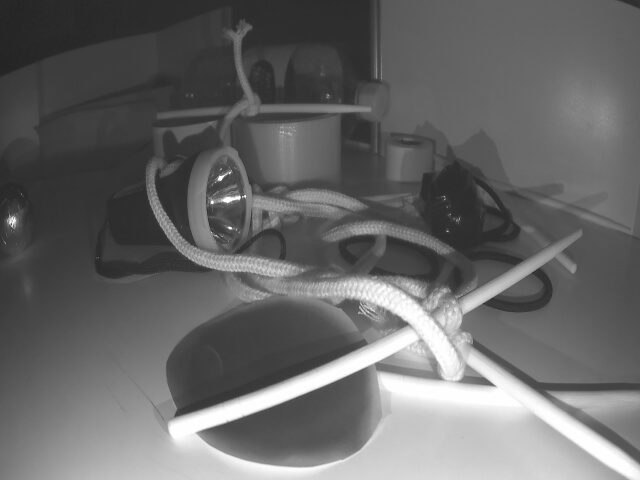Dead: (415, 166, 482, 245)
Live: (0, 184, 39, 259)
Point: (43, 93, 192, 153)
